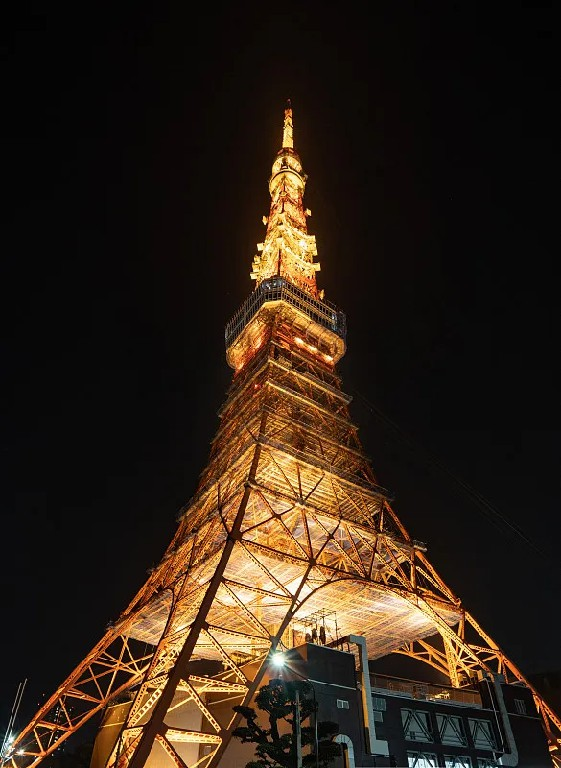Tokyo: (2, 93, 561, 765)
